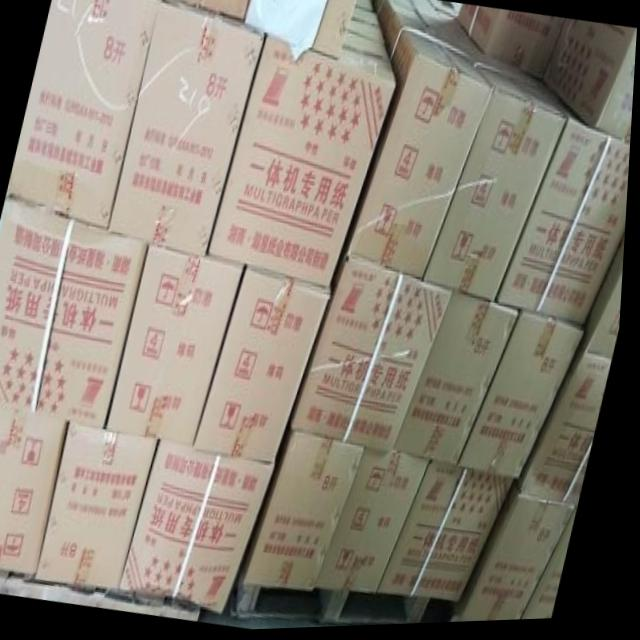box: (209, 11, 396, 291), (426, 22, 567, 308), (344, 16, 494, 283), (110, 0, 266, 255), (0, 195, 151, 428), (8, 0, 161, 229), (498, 85, 632, 331), (294, 255, 457, 457), (111, 240, 248, 448), (197, 267, 335, 466), (126, 442, 281, 616), (397, 292, 524, 469), (463, 315, 588, 485), (42, 423, 164, 592), (383, 465, 524, 607), (250, 429, 371, 594), (323, 451, 435, 599), (466, 487, 584, 625), (525, 333, 616, 507), (0, 405, 75, 575), (546, 22, 638, 147), (459, 7, 566, 87), (529, 507, 584, 624), (587, 232, 628, 361), (244, 0, 326, 60), (372, 0, 459, 37), (313, 0, 357, 61), (175, 0, 249, 25), (354, 0, 376, 14)
